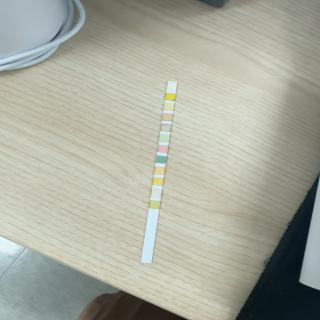mark: (152, 190, 162, 198), (155, 167, 165, 175), (156, 156, 166, 164), (158, 145, 168, 153), (160, 134, 170, 142), (150, 201, 160, 208), (153, 178, 163, 185), (161, 125, 171, 132), (162, 114, 172, 120), (164, 104, 174, 110), (166, 94, 175, 100), (167, 84, 176, 90)
